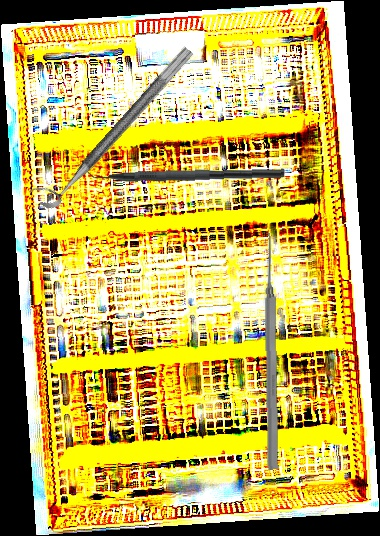Chopper: (74, 154, 287, 186)
Fixation Ring: (27, 33, 196, 214)
Pusher: (261, 232, 282, 470)
